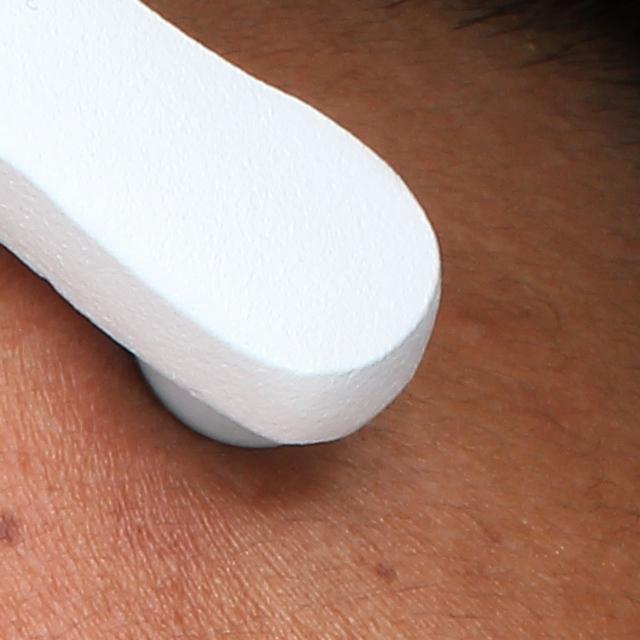nevus: (376, 558, 400, 583)
